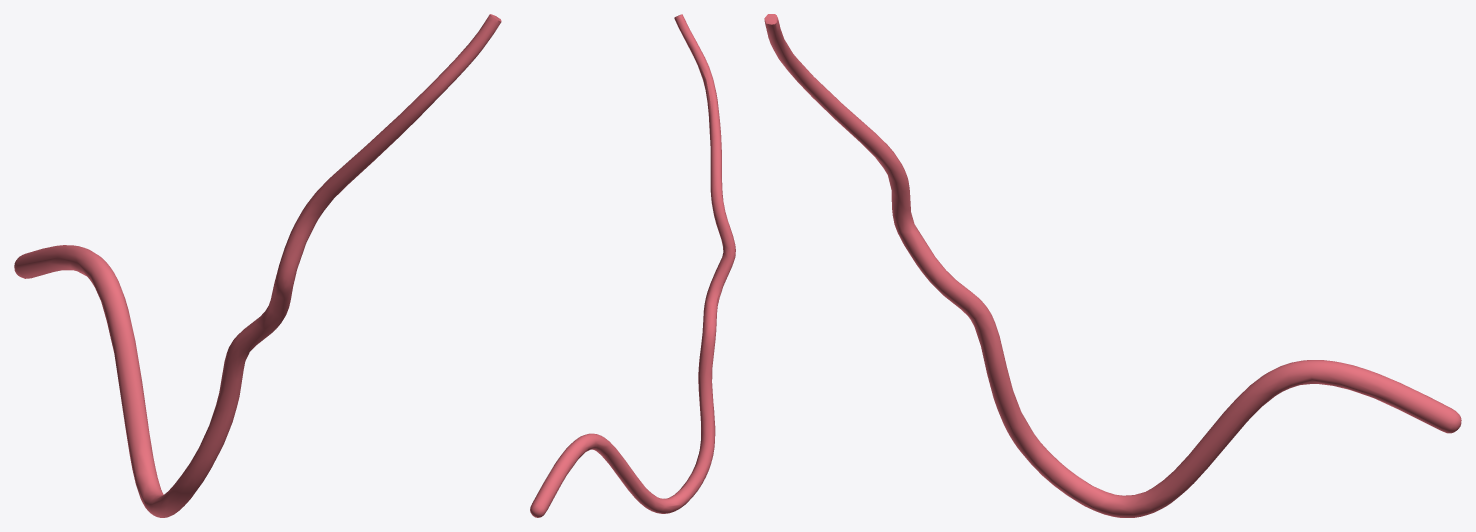
Rendered from fma66450_fj5084.glb.
3 views of the same model, side by side, from view 1: azimuth 30°, elevation 25°; view 2: azimuth 150°, elevation 25°; view 3: azimuth 270°, elevation 25° (orthographic). The views are drawn at different scales.
Parts seen in each view (by area): view 1: FMA66450_FJ5084; view 2: FMA66450_FJ5084; view 3: FMA66450_FJ5084.
Part boxes in pixels (x1,y1,x2,y2): FMA66450_FJ5084: [14, 14, 501, 517]; FMA66450_FJ5084: [530, 14, 735, 517]; FMA66450_FJ5084: [764, 14, 1461, 517].
Size of the model in its own units: 0.0248 by 0.0725 by 0.0788.
